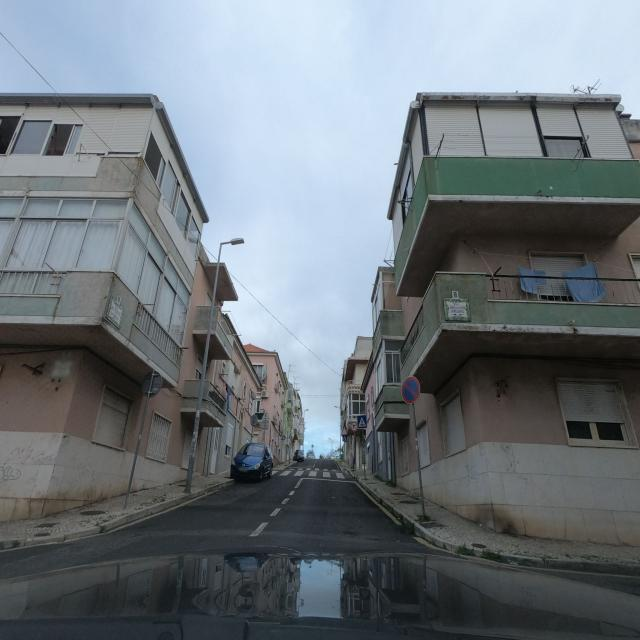forb_stopping: (401, 376, 420, 405)
